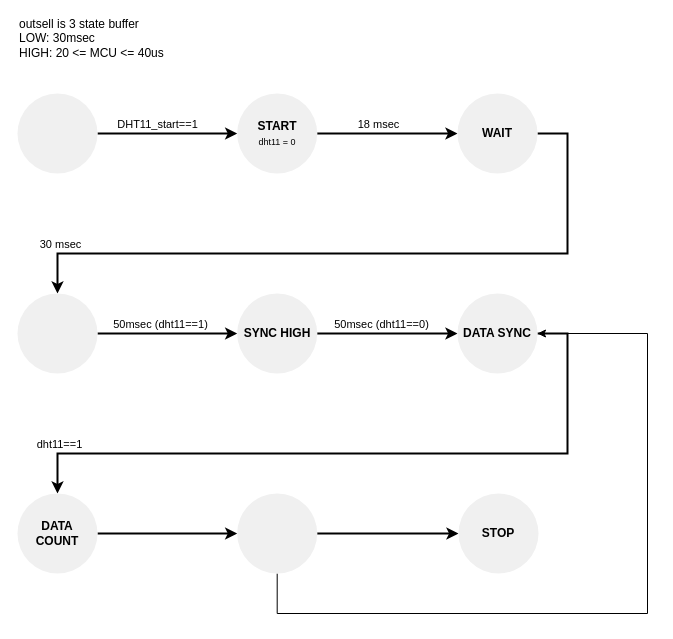
This 673x639 diagram has some shape labels left out. The box of each missing label's shape, as (x1, y1, x2, y2) in pixels:
DATA DECISION: (237, 493, 317, 573)
IDLE dht11=1 outsel=1: (17, 93, 97, 173)
SYNC LOW: (17, 293, 97, 373)
